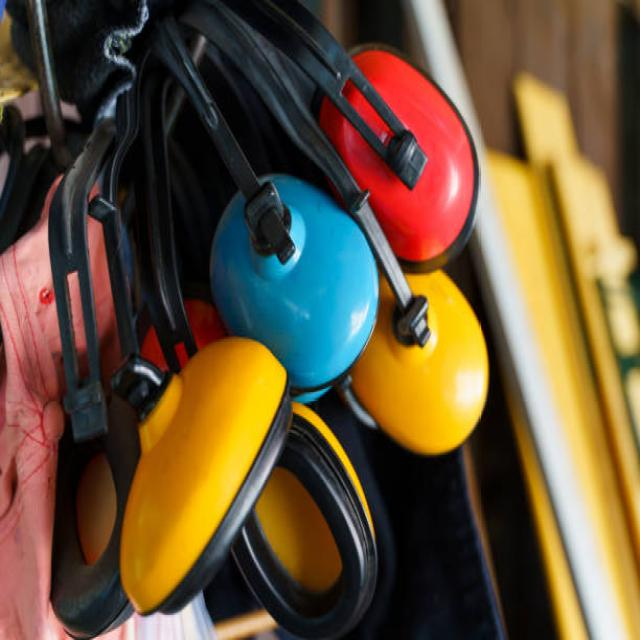Ear-protection: (118, 51, 296, 620), (155, 14, 380, 403), (228, 0, 483, 270), (47, 85, 140, 634), (244, 398, 380, 640), (356, 256, 490, 457)
